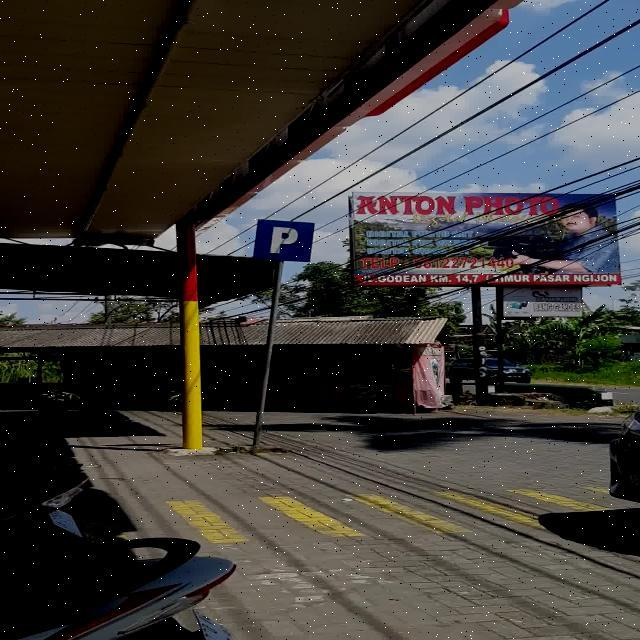Tempat Parkir: (254, 218, 314, 262)
